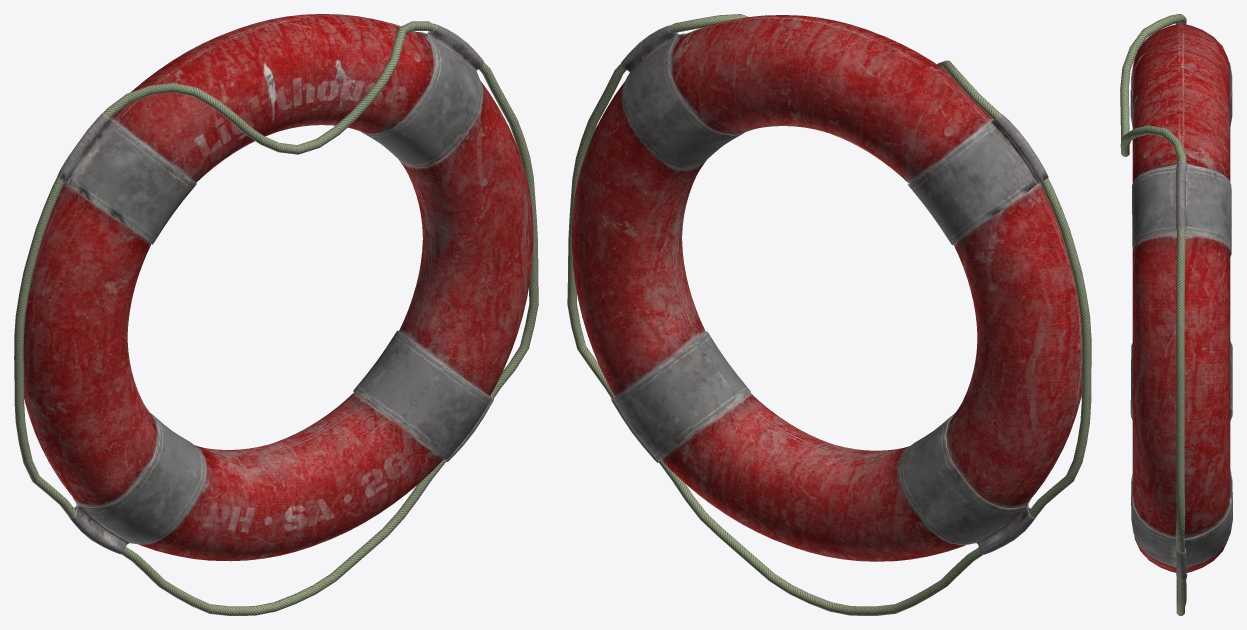
File: lifebuoy.glb
3 renders of one model, left to right at view 1: azimuth 30°, elevation 25°; view 2: azimuth 150°, elevation 25°; view 3: azimuth 270°, elevation 25°, orthographic. The views are drawn at different scales.
Visible parts, largest first — view 1: lifebuoy; view 2: lifebuoy; view 3: lifebuoy.
Part boxes in pixels (box(x1,y1,x2,y2)): lifebuoy: box(14, 14, 538, 615); lifebuoy: box(567, 14, 1091, 615); lifebuoy: box(1120, 14, 1232, 615).
Size of the model in its own units: 0.7832 by 0.8412 by 0.1551.
1 material, 1 textured.
